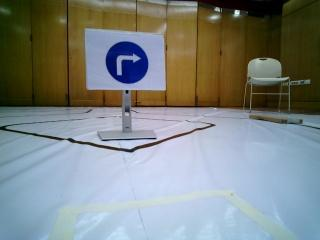right: (89, 30, 166, 89)
